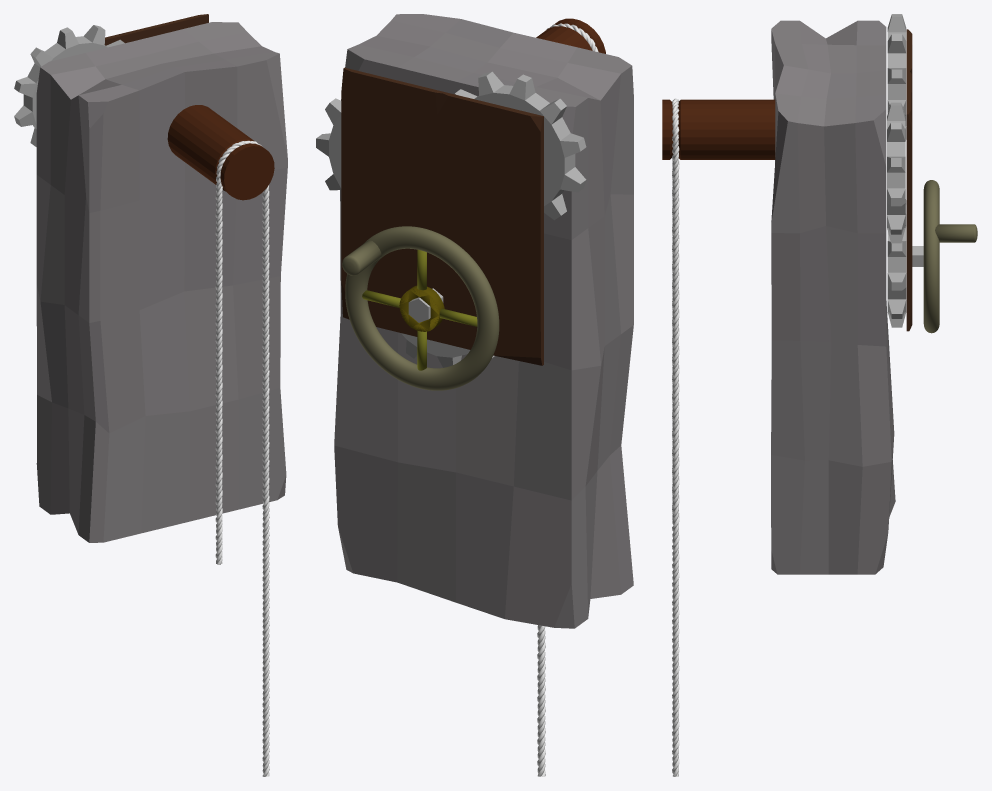
The model's file is FBX_ENV_RUIN_MECHANIK_OHNE_ANIMATION_MitRad.fbx.
3 renders of one model, left to right at view 1: azimuth 30°, elevation 25°; view 2: azimuth 150°, elevation 25°; view 3: azimuth 270°, elevation 25°, orthographic. The views are drawn at different scales.
Visible parts, largest first — view 1: Circle.002; view 2: Circle.002; view 3: Circle.002.
Part boxes in pixels (x1=…): Circle.002: x1=14, y1=14, x2=287, y2=776; Circle.002: x1=316, y1=14, x2=633, y2=776; Circle.002: x1=662, y1=14, x2=977, y2=776.
Size of the model in its own units: 69.24 by 204 by 81.75.
